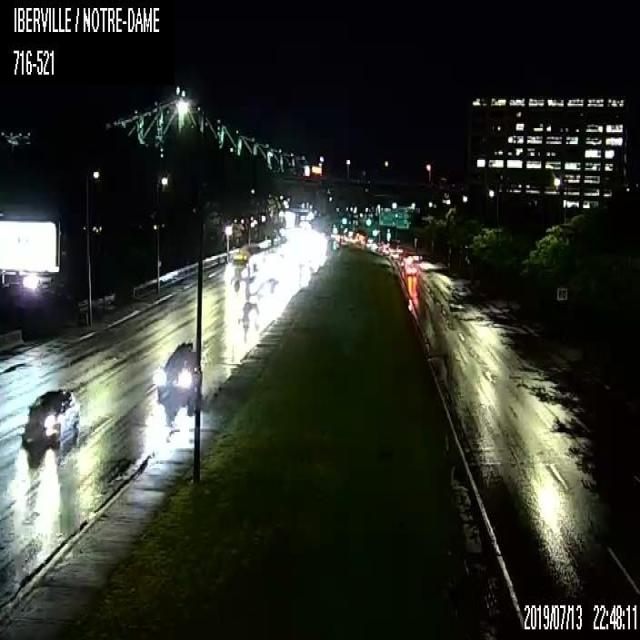vehicle: (20, 385, 79, 448), (154, 339, 202, 404), (225, 248, 249, 283), (404, 255, 416, 275)
